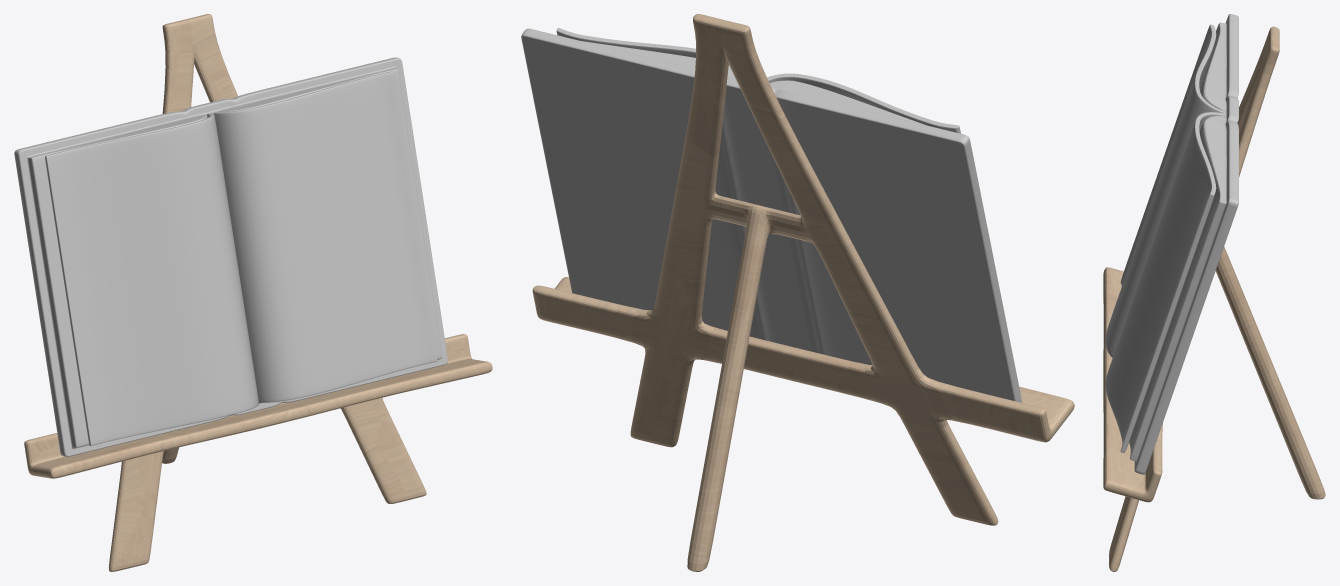
File: BookAndStand.fbx
The picture shows the model from 3 angles, left to right: view 1: azimuth 30°, elevation 25°; view 2: azimuth 150°, elevation 25°; view 3: azimuth 270°, elevation 25°; orthographic projection. The views are drawn at different scales.
Parts seen in each view (by area): view 1: book final, Plane; view 2: book final, Plane; view 3: book final, Plane.
Boxes of the visible parts, x1,y1,x2,y2 form: book final: (14, 57, 447, 456); Plane: (24, 14, 492, 571); book final: (521, 28, 1022, 402); Plane: (532, 14, 1074, 571); book final: (1105, 14, 1238, 474); Plane: (1103, 26, 1325, 571).
Size of the model in its own units: 48.1 by 20.86 by 47.6.
